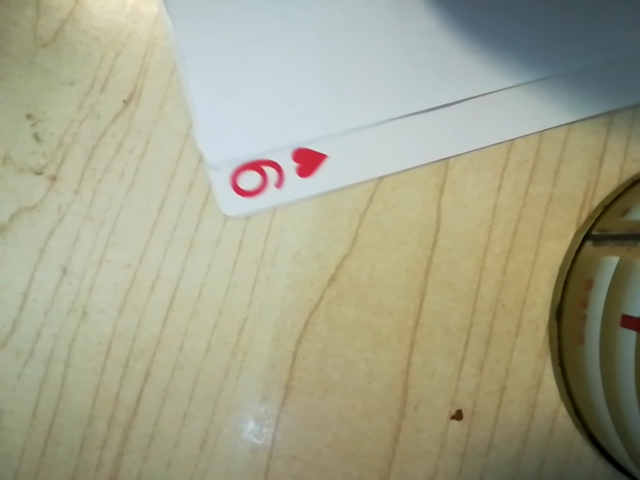hx 9: (218, 143, 328, 209)
